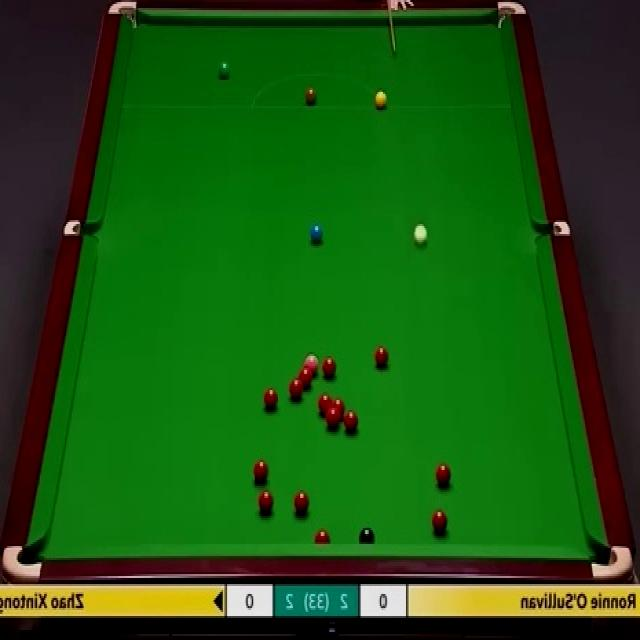black-ball: (358, 528, 374, 544)
blue-ball: (310, 225, 324, 242)
brown-ball: (305, 88, 316, 106)
green-ball: (219, 62, 231, 78)
pink-ball: (304, 354, 319, 374)
red-ball: (293, 489, 309, 516), (253, 460, 270, 485), (431, 511, 448, 534), (258, 490, 273, 514), (321, 358, 339, 378), (344, 409, 359, 433), (434, 464, 452, 484), (314, 392, 331, 413), (289, 377, 305, 399), (374, 343, 389, 366), (263, 387, 278, 410), (331, 398, 344, 418), (326, 408, 339, 428), (313, 529, 331, 543), (298, 367, 312, 385)
white-ball: (413, 224, 428, 244)
yellow-ball: (375, 90, 387, 110)
